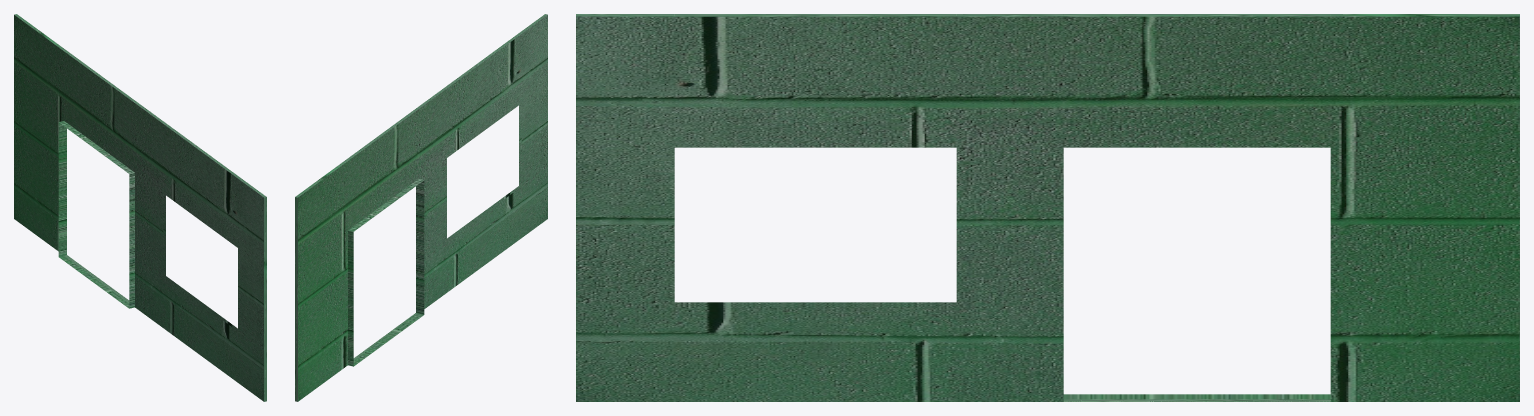
File: pared1.obj
The picture shows the model from 3 angles, left to right: view 1: azimuth 30°, elevation 25°; view 2: azimuth 150°, elevation 25°; view 3: azimuth 270°, elevation 25°; orthographic projection. The views are drawn at different scales.
Visible parts, largest first — view 1: pCube2; view 2: pCube2; view 3: pCube2.
Part boxes in pixels (x1,y1,x2,y2): pCube2: [14, 14, 266, 401]; pCube2: [295, 14, 547, 401]; pCube2: [576, 14, 1519, 401].
Bounding box in the file's own units: 0.4458 × 10.25 × 22.74.
1 material, 1 textured.
